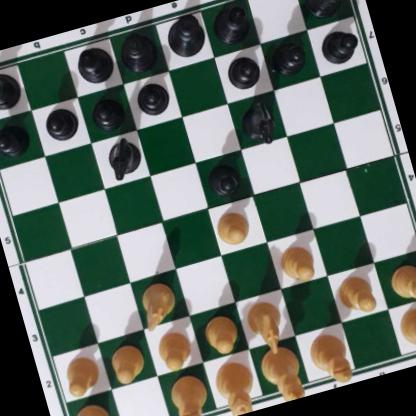black-bishop: (206, 0, 255, 47), (70, 43, 119, 89)
black-king: (158, 9, 209, 60)
black-knight: (235, 97, 280, 148), (102, 134, 144, 180)
black-pawn: (317, 23, 361, 68), (202, 157, 244, 200), (40, 102, 81, 145), (223, 49, 263, 92), (132, 76, 171, 120), (269, 36, 308, 78), (88, 91, 126, 133), (0, 119, 31, 159)
black-queen: (114, 27, 162, 77)
black-rook: (0, 64, 24, 116), (299, 0, 352, 20)
white-bishop: (304, 330, 354, 388), (165, 371, 217, 416)
white-king: (256, 340, 308, 404)
white-knight: (242, 296, 292, 359), (133, 276, 181, 330)
white-pawn: (334, 269, 379, 317), (59, 351, 103, 399), (104, 339, 148, 385), (274, 240, 318, 286), (153, 327, 196, 372), (199, 310, 241, 356), (211, 206, 252, 248), (386, 257, 416, 305)
white-queen: (209, 356, 261, 416)
white-rook: (397, 299, 416, 365), (63, 396, 117, 416)
